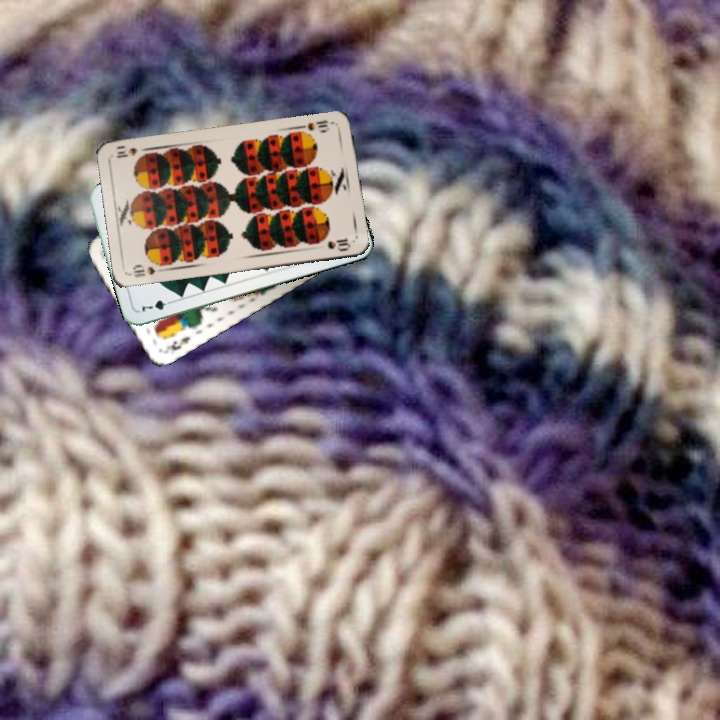EK: (160, 332, 193, 356)
G7: (137, 296, 177, 315)
S10: (303, 115, 337, 135), (126, 261, 158, 280)
